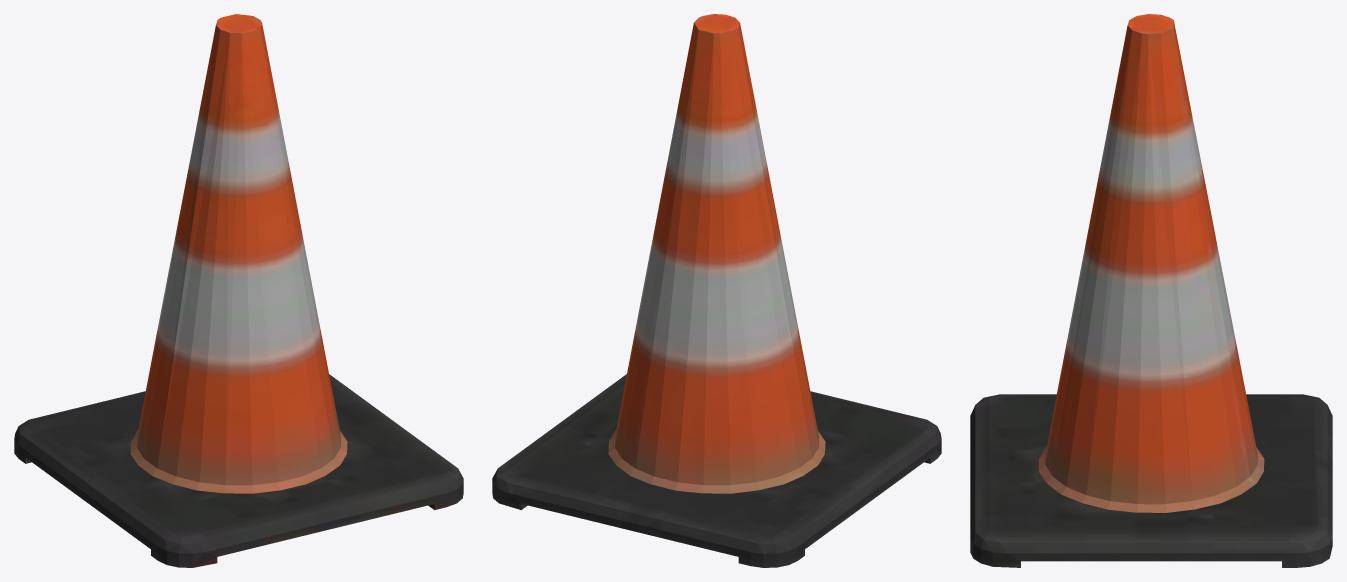
File: cono.glb
3 views of the same model, side by side, from view 1: azimuth 30°, elevation 25°; view 2: azimuth 150°, elevation 25°; view 3: azimuth 270°, elevation 25° (orthographic). The views are drawn at different scales.
Parts seen in each view (by area): view 1: traffic_cone; view 2: traffic_cone; view 3: traffic_cone.
Part boxes in pixels (box(x1,y1,x2,y2)): traffic_cone: box(14, 14, 463, 567); traffic_cone: box(492, 14, 941, 567); traffic_cone: box(970, 14, 1332, 567).
Bounding box in the file's own units: 0.5 × 0.7119 × 0.5.
Materials: 1 (1 with a texture image).
